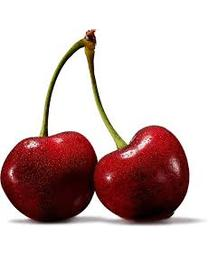cherry: (93, 125, 190, 223), (1, 130, 98, 223)
